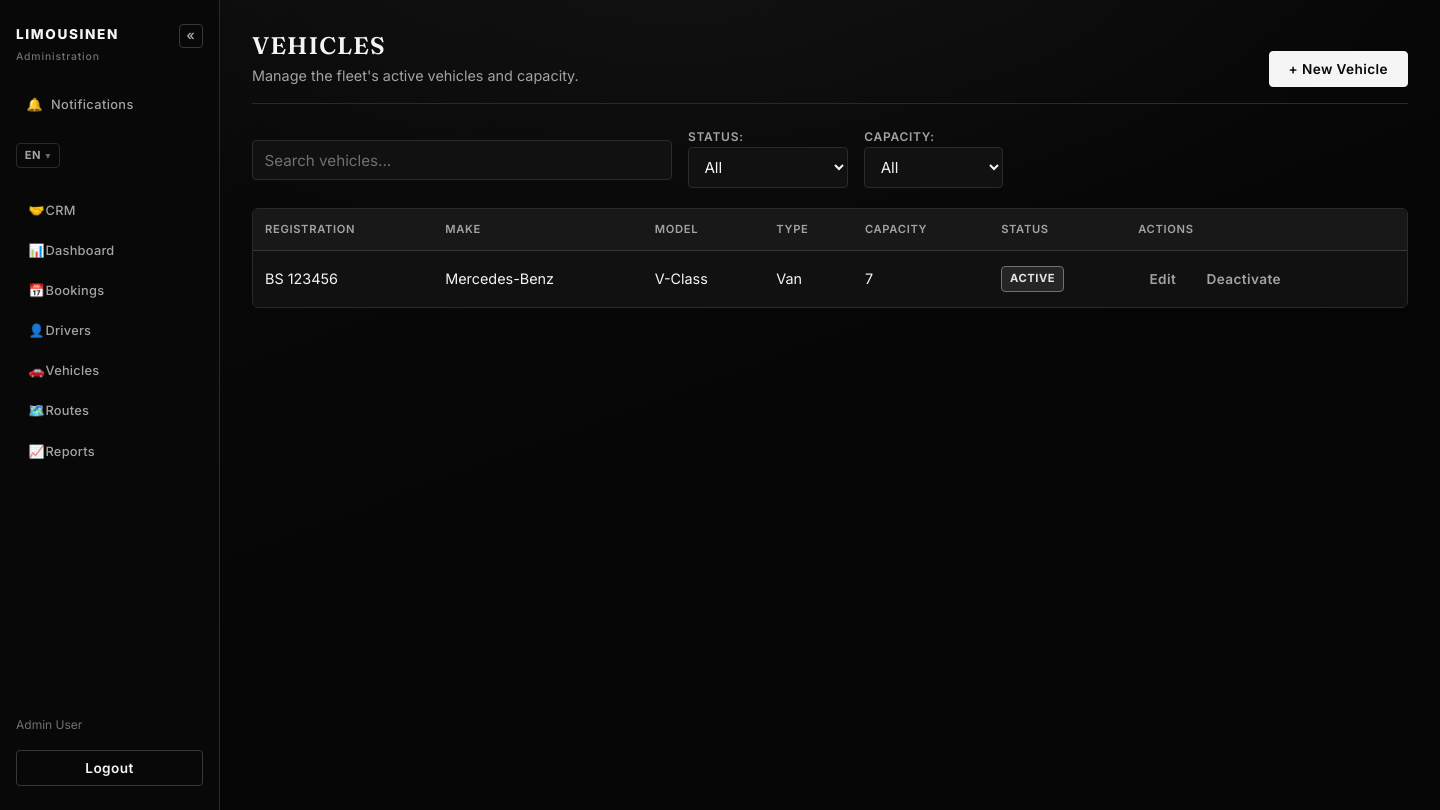
Test case: VehiclesPage › does not deactivate a vehicle when the confirmation is declined
Check: the text "V-Class" is shown, box x1=643 y1=251 x2=764 y2=307
Click the button "Deactivate": (1244, 279) x1=1195 y1=263 x2=1292 y2=295
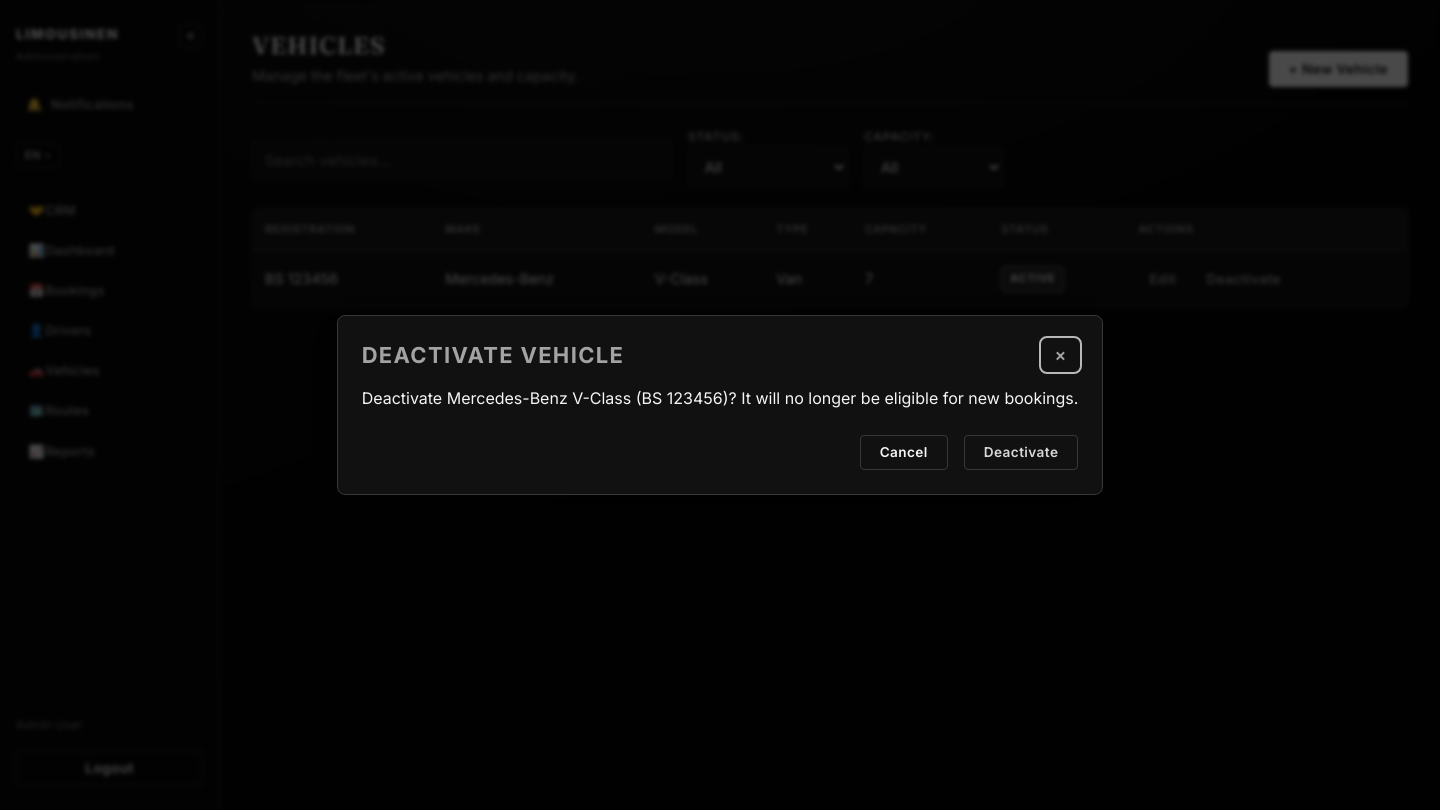
Click the button "Cancel": (904, 452) x1=860 y1=435 x2=948 y2=470
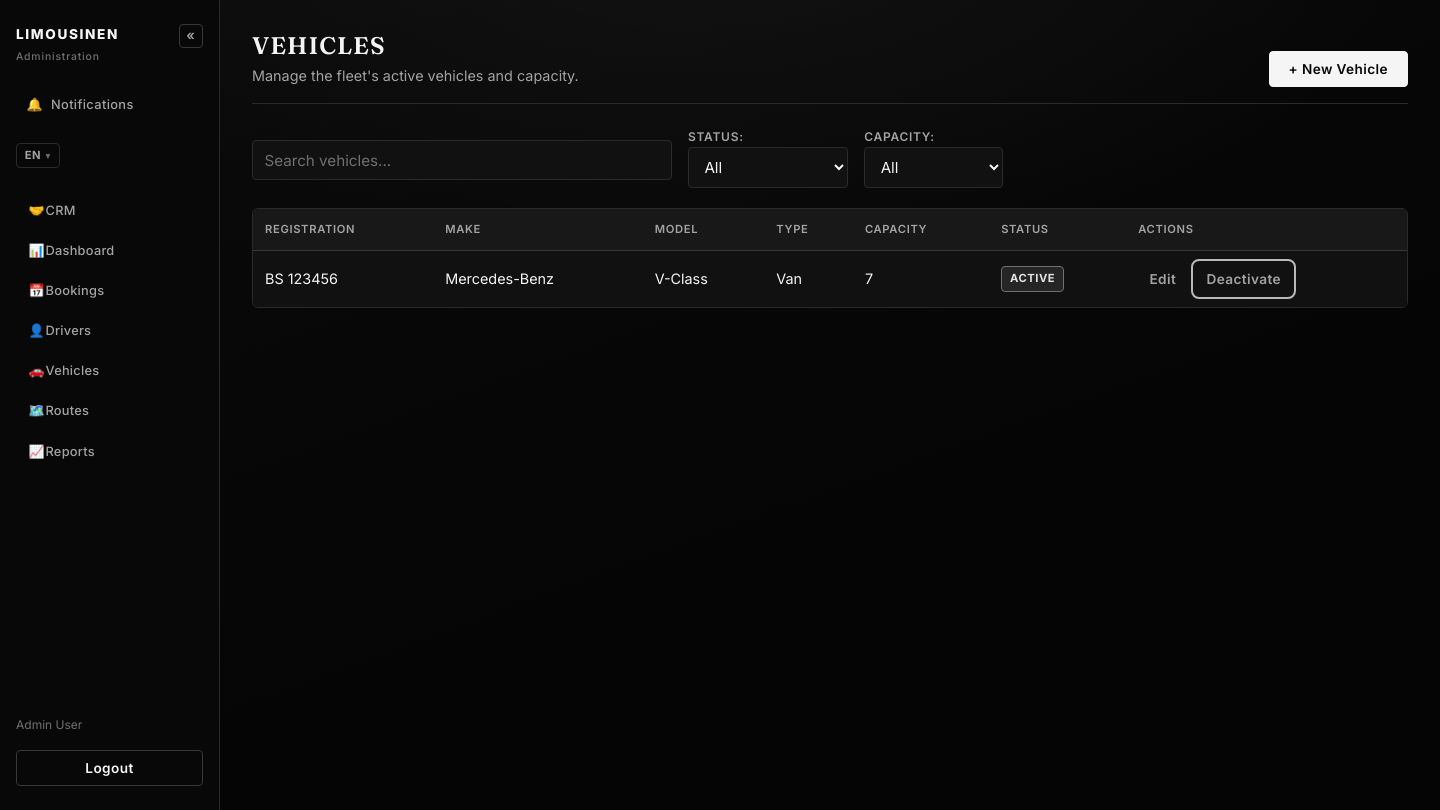
Check: the dialog is gone
